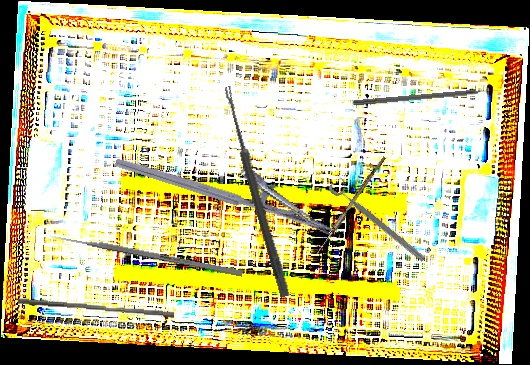Fixation Ring: (327, 174, 432, 265)
Hook Surgical: (352, 87, 501, 108)
Needle Holder: (113, 126, 344, 239)
Pusher: (49, 232, 243, 277), (17, 297, 175, 319)
Surgical Spoon: (220, 85, 292, 298), (313, 154, 387, 258)
